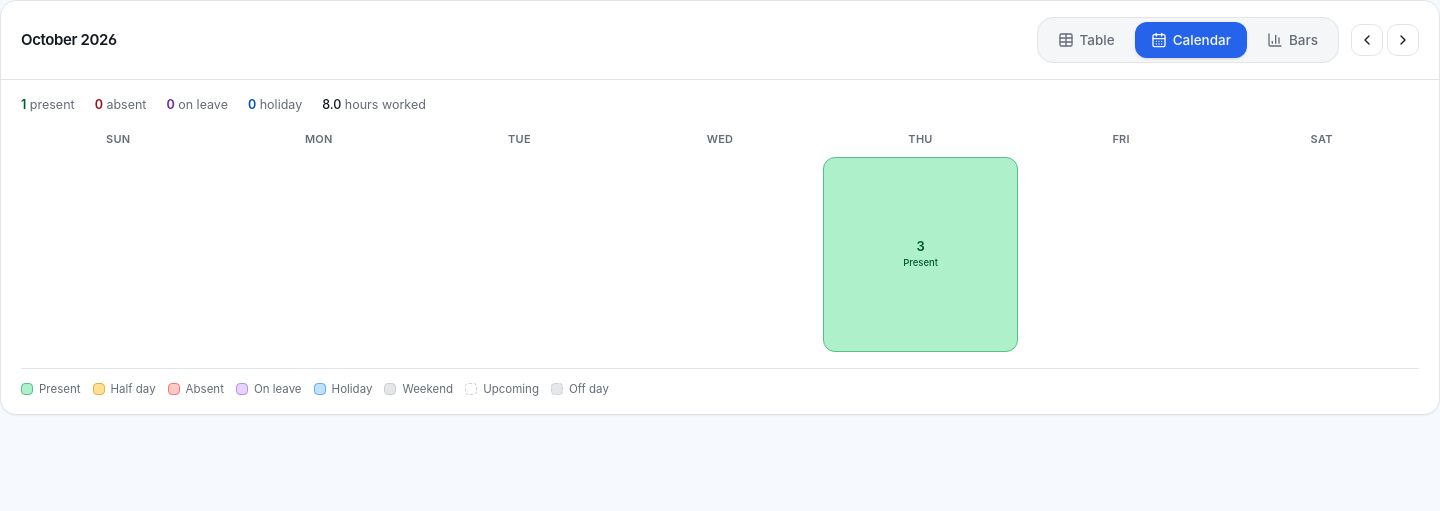
Test: the month is shared by all three views › keeps the month navigation reachable from the bars view
The image size is (1440, 511).
Expected: the table named "attendance calendar" is shown, [21, 131, 1419, 352]
Click the button "Bars": {"x": 1292, "y": 40} [1251, 22, 1334, 58]
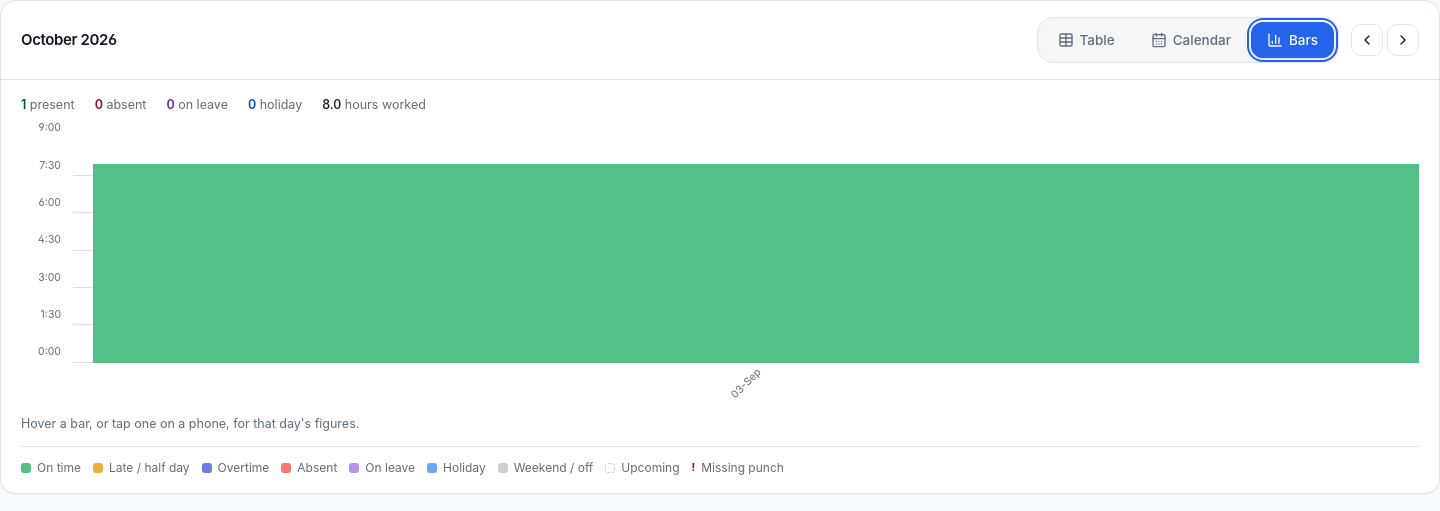
Expected: the button named "Previous month" is shown, [1351, 24, 1383, 56]
Result: the list named "Worked hours per day for Abdul Rehman" is shown at [93, 139, 1419, 363]
